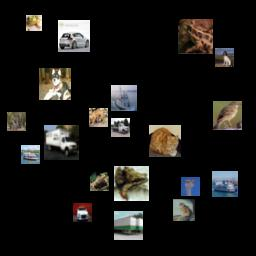automobile: (58, 20, 90, 52), (73, 203, 92, 222)
bird: (213, 101, 242, 130), (181, 177, 200, 196)
cat: (149, 125, 181, 157), (173, 199, 195, 221)
deer: (7, 112, 26, 131)
dog: (39, 68, 71, 100), (89, 108, 108, 127), (215, 48, 234, 67)
frog: (178, 19, 213, 54), (114, 166, 149, 201), (90, 172, 109, 191), (26, 15, 42, 31)
ship: (212, 171, 238, 197), (111, 85, 137, 111), (21, 145, 40, 164)
truck: (44, 125, 79, 160), (114, 211, 143, 240), (111, 118, 130, 137)
